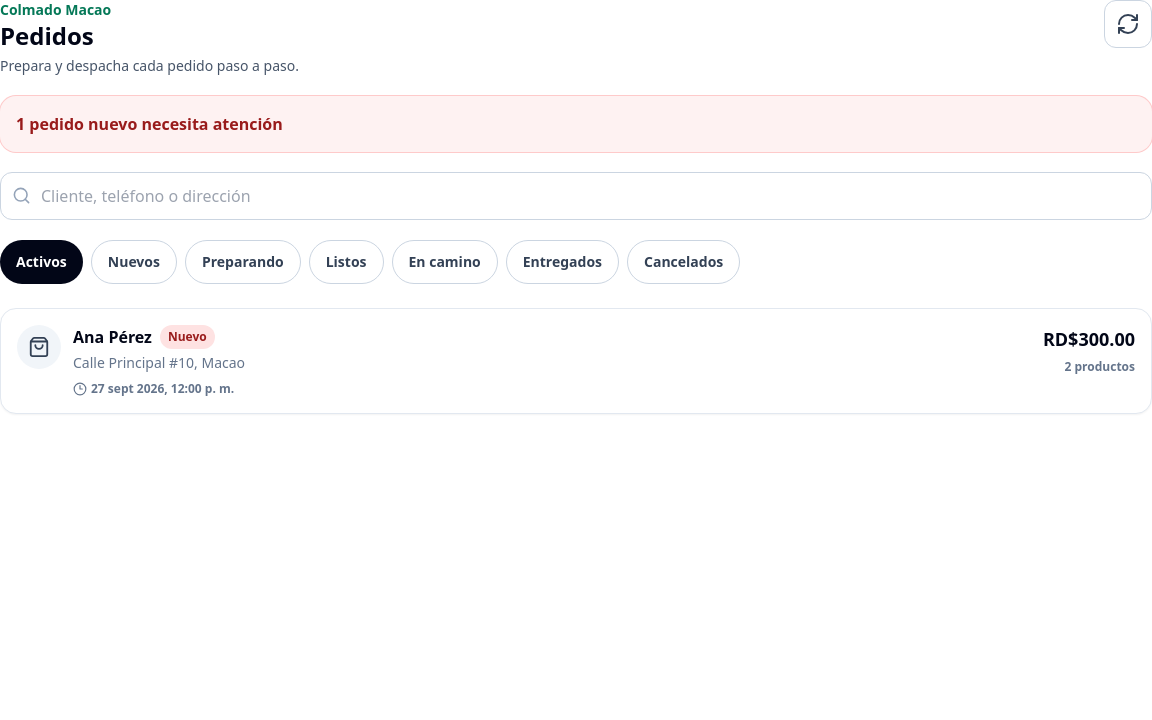
Test case: OrdersPanel › shows products, delivery instructions, phone and Google Maps
Click the button "Ana Pérez" at coordinates (39, 347), box [0,308,1151,414]
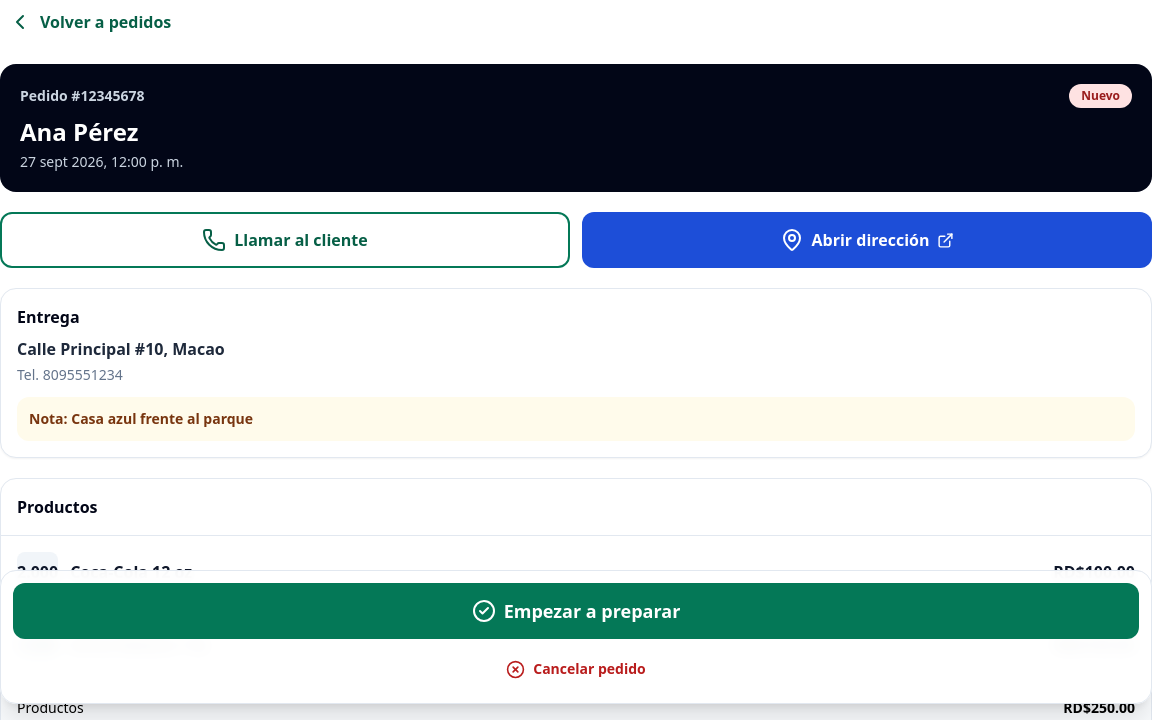
Now the text "Coca-Cola 12 oz" is shown, box [70,561,192,583]
Now the text "Arroz Selecto 1 lb" is shown, box [70,634,207,656]
Now the text "Nota: Casa azul frente al parque" is shown, box [71,409,253,428]
